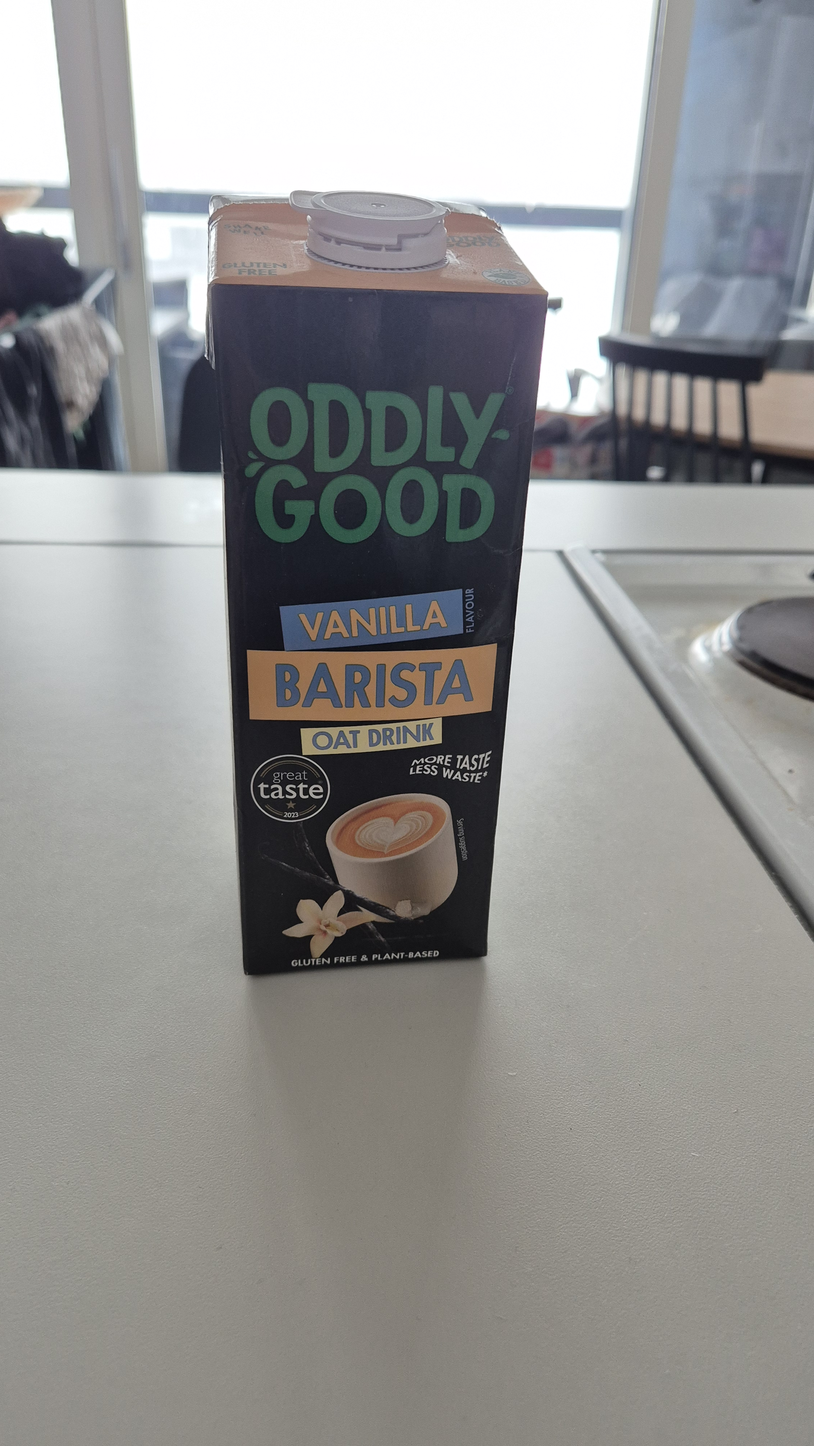Dryckeskartong: (207, 192, 547, 978)
